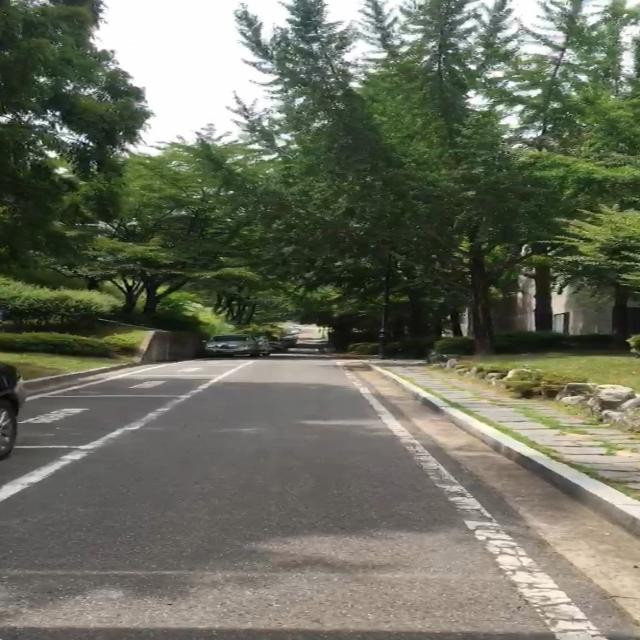obstacle: (0, 361, 22, 463), (204, 335, 288, 357)
road: (0, 360, 640, 640)
sidewalk: (370, 352, 640, 539)
